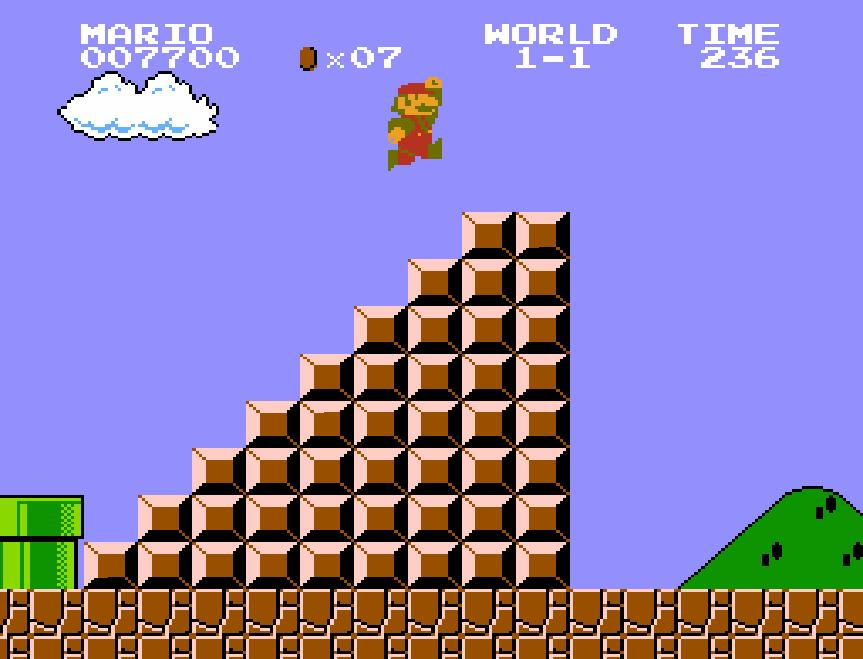big_mario: (386, 73, 444, 172)
